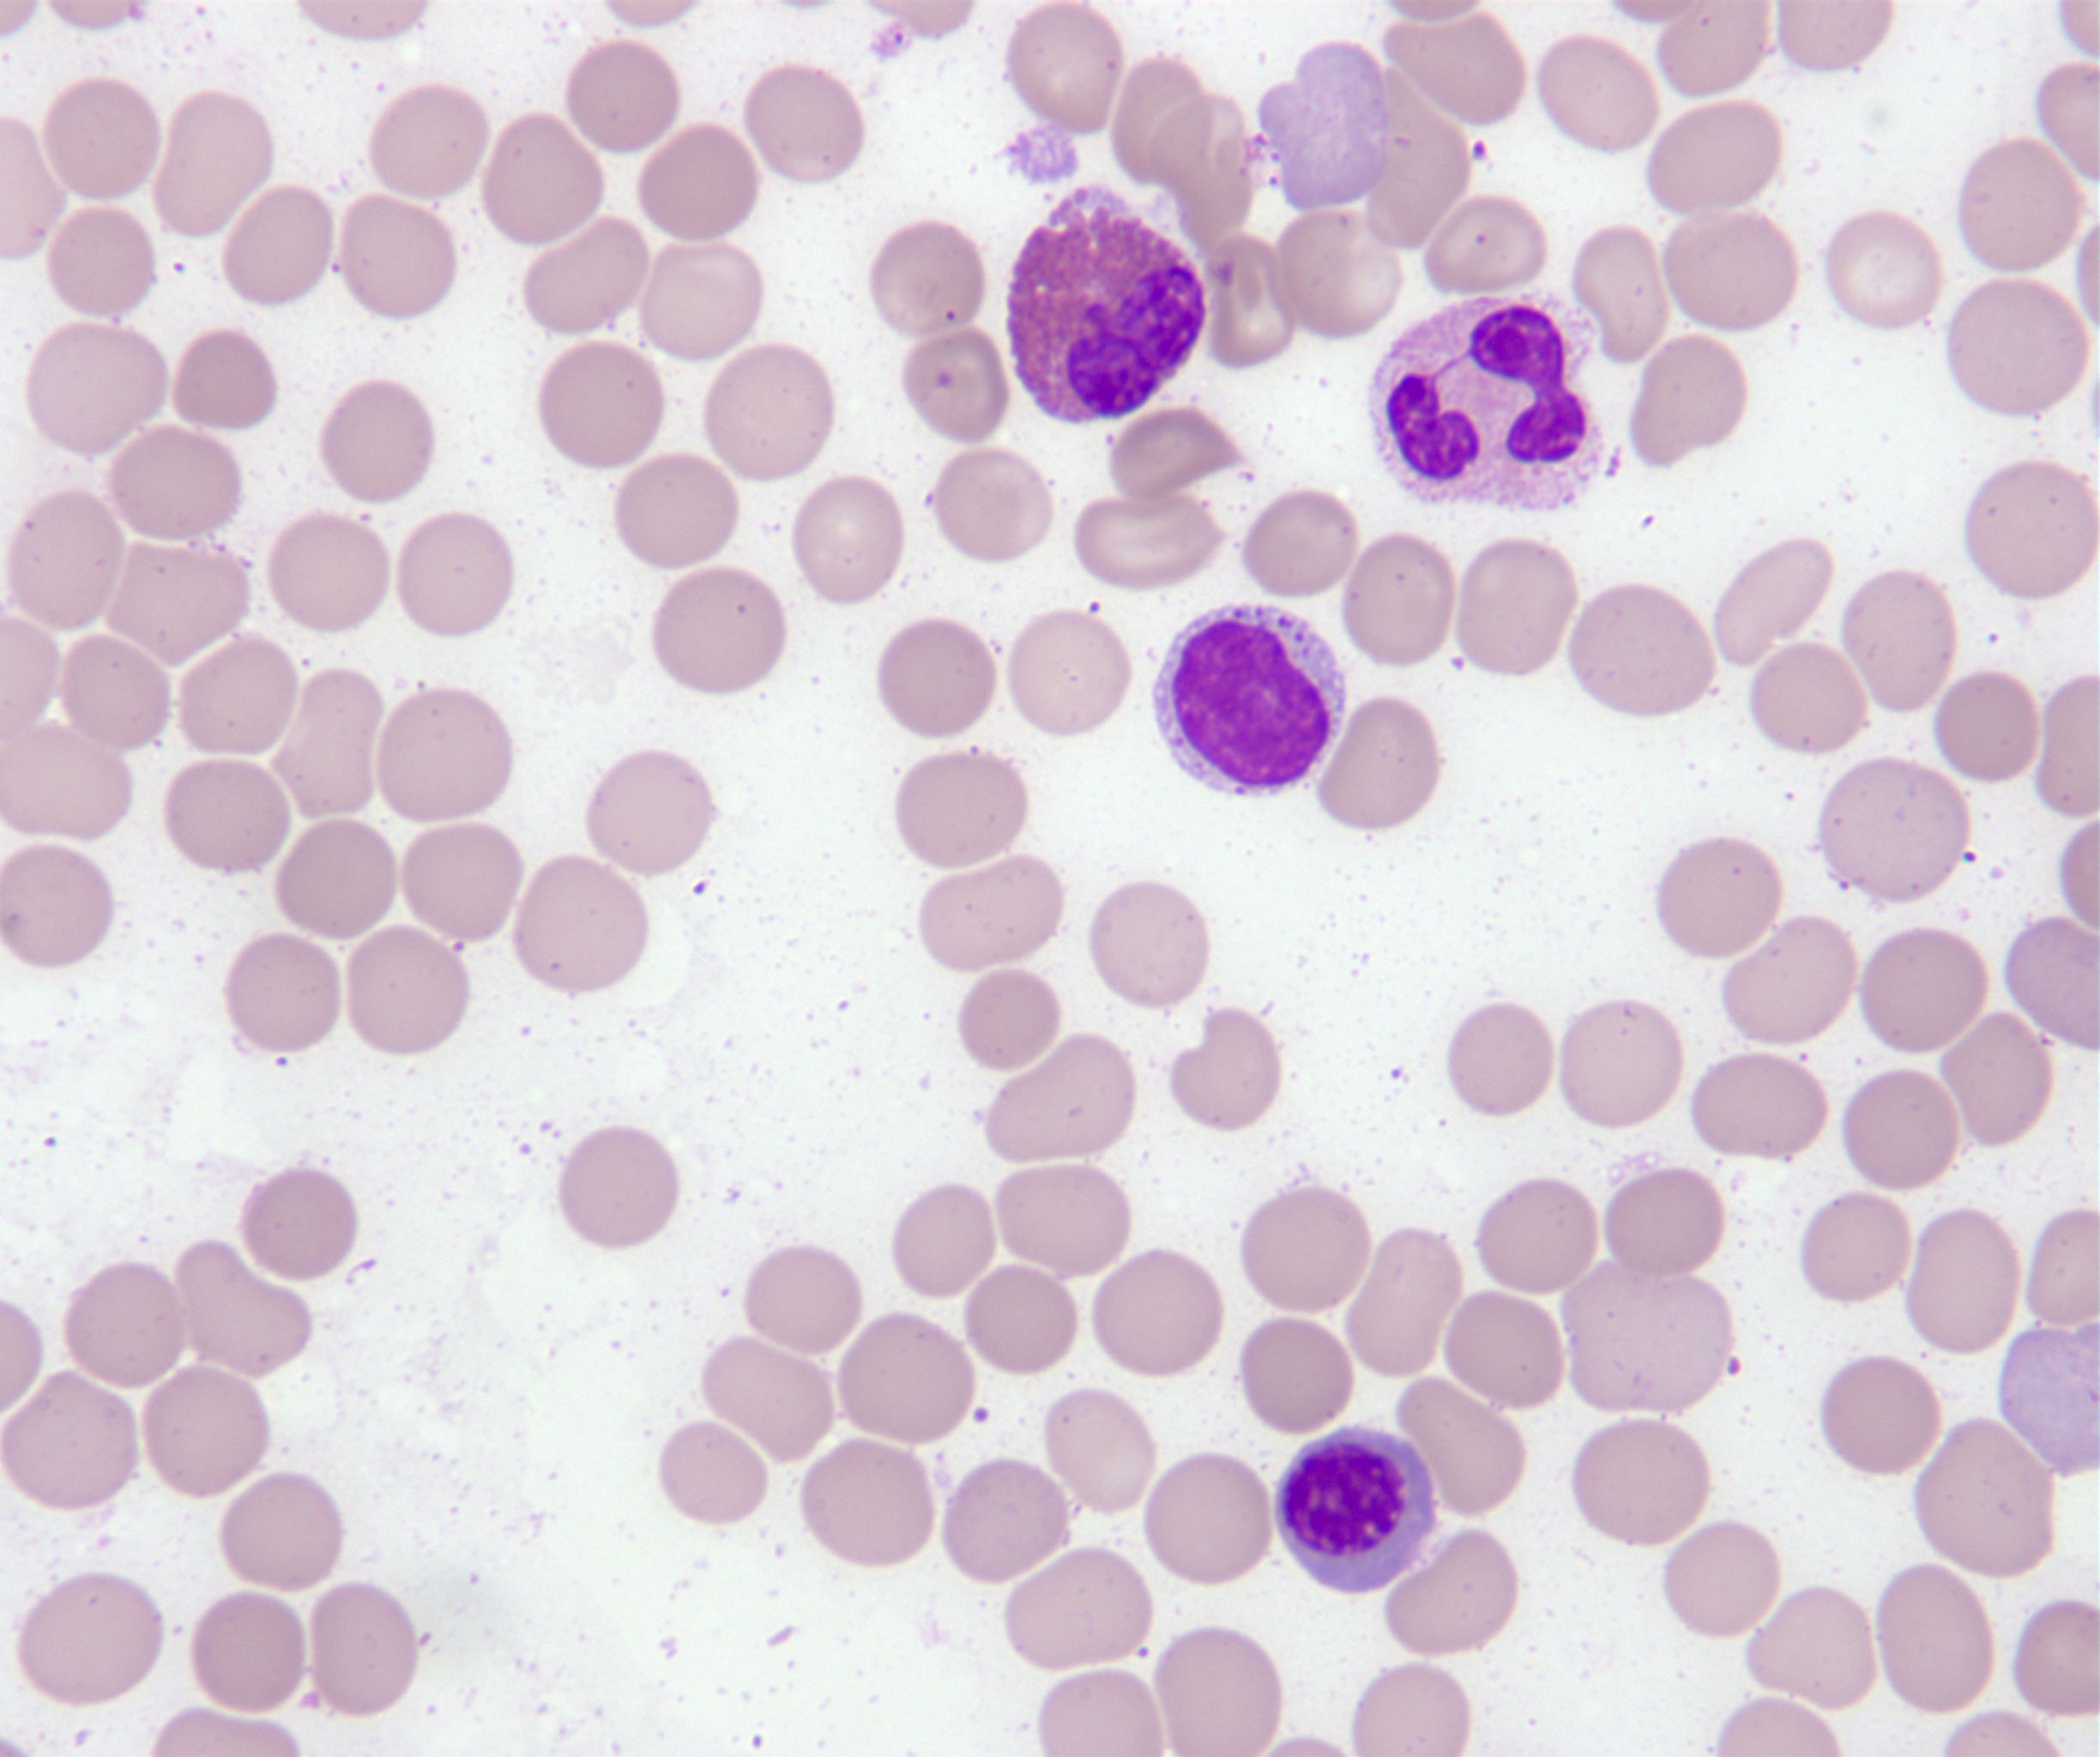23: (1273, 1427, 1435, 1595)
32: (1153, 607, 1345, 796)
6: (1367, 290, 1601, 509)
E3: (1006, 187, 1203, 422)
